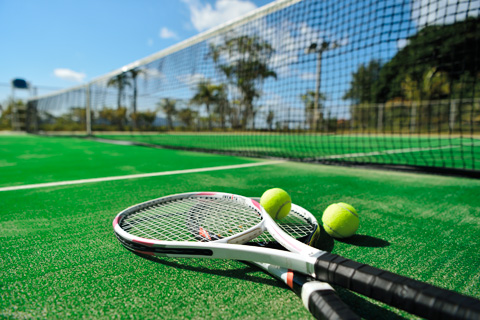tennis_ball: (319, 200, 361, 242), (257, 186, 291, 220)
